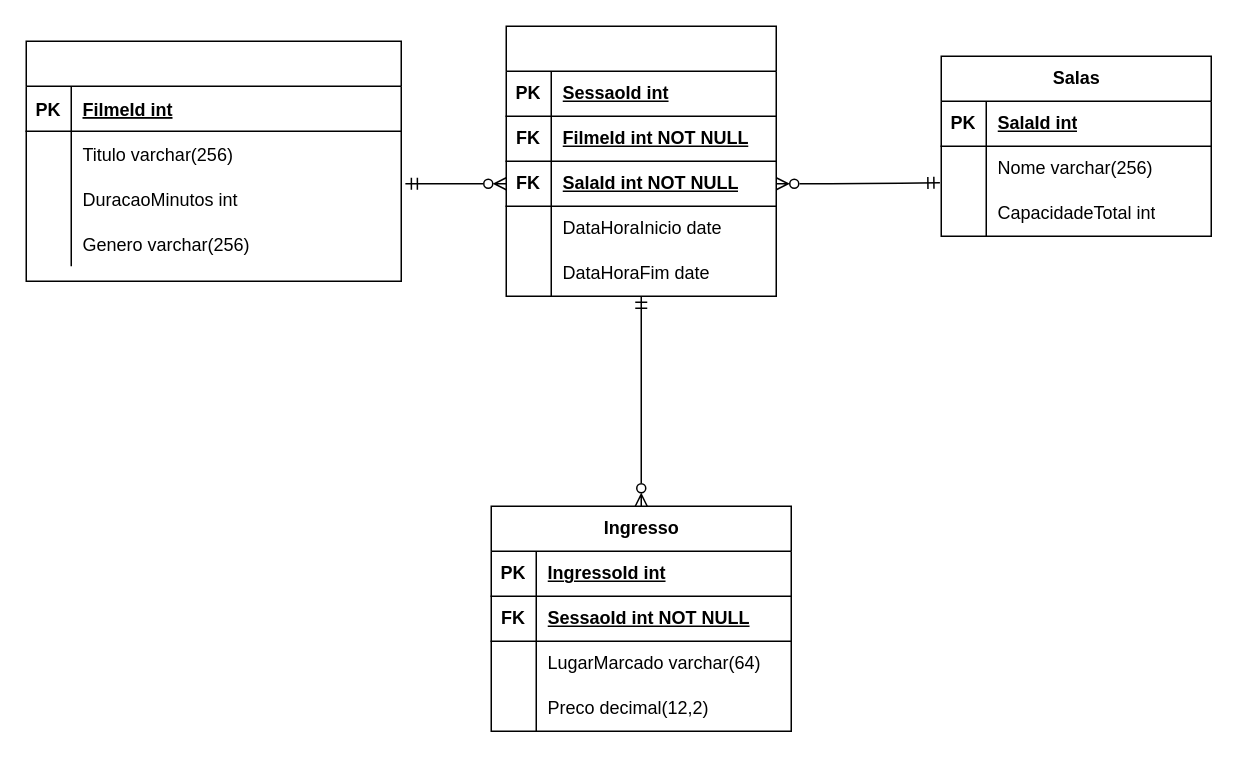
This 1238x758 diagram has some shape labels left out. The box of each missing label's shape, as (x1, y1, x2, y2) in pixels:
Filmes: (25, 40, 401, 281)
Sessoes: (505, 25, 776, 296)
